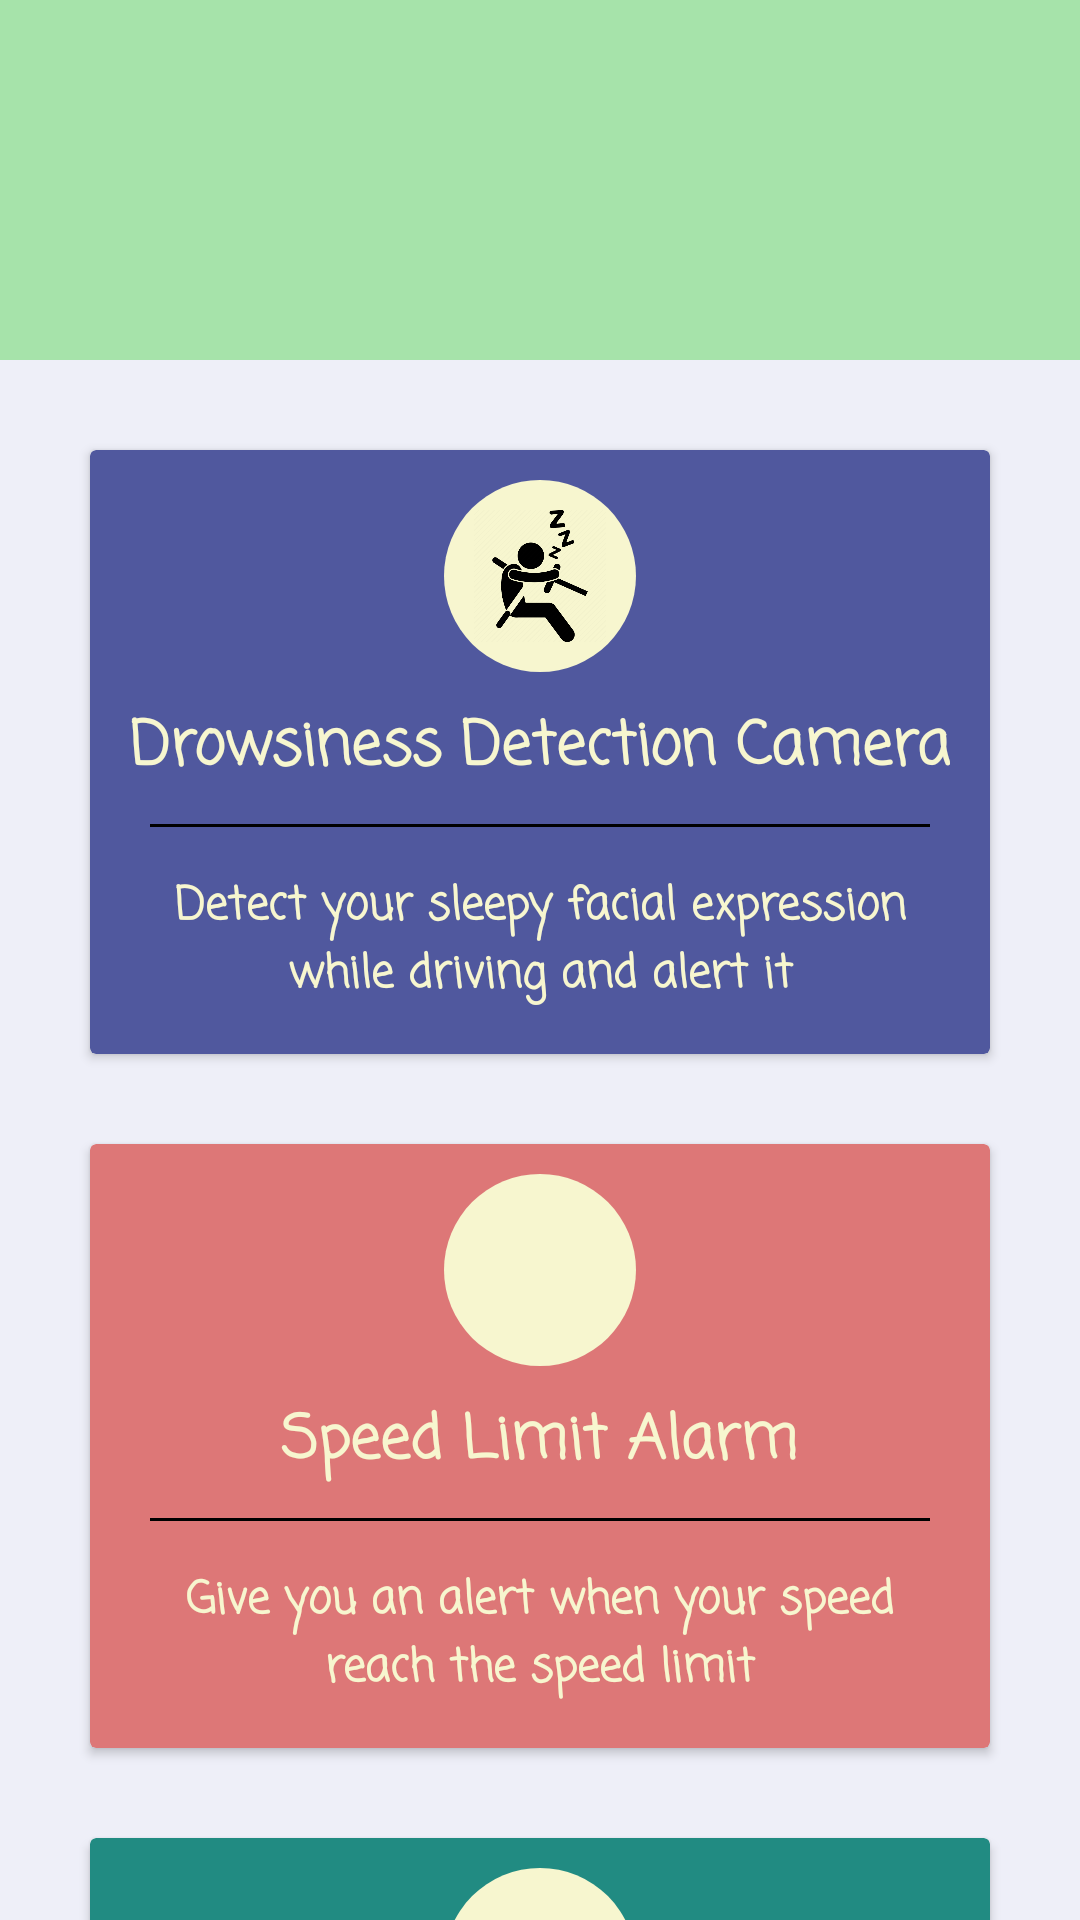

Icon bounding boxes for this 1080w x 1920h phone screenshot, format (x1, y1, x2, y2):
ngantuk: (444, 480, 636, 672)
